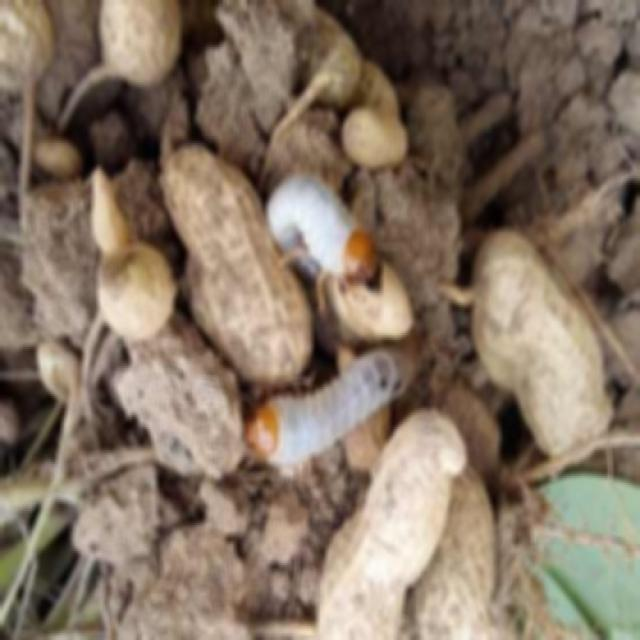grub: (243, 343, 409, 458), (261, 168, 394, 299)
